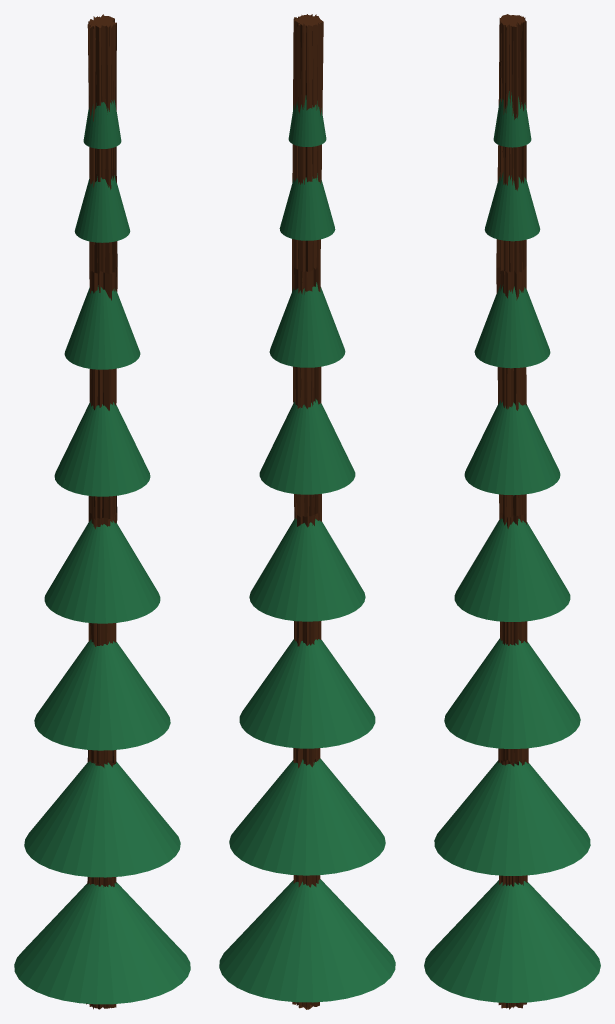
Rendered from pine_tall.glb.
3 views of the same model, side by side, from view 1: azimuth 30°, elevation 25°; view 2: azimuth 150°, elevation 25°; view 3: azimuth 270°, elevation 25° (orthographic).
Visible parts, largest first — view 1: ColoredPine_Tall; view 2: ColoredPine_Tall; view 3: ColoredPine_Tall.
Boxes of the visible parts, x1,y1,x2,y2 form: ColoredPine_Tall: (14, 14, 190, 1009); ColoredPine_Tall: (219, 14, 395, 1009); ColoredPine_Tall: (424, 14, 600, 1009).
Size of the model in its own units: 3.92 by 24.14 by 3.92.
